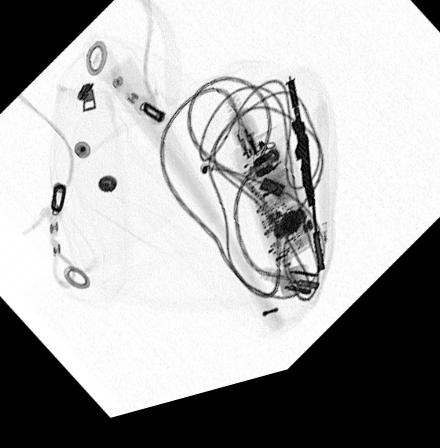Gun: (282, 87, 328, 292)
